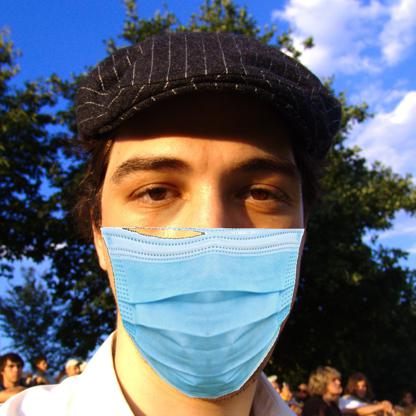mask: (98, 224, 307, 401)
